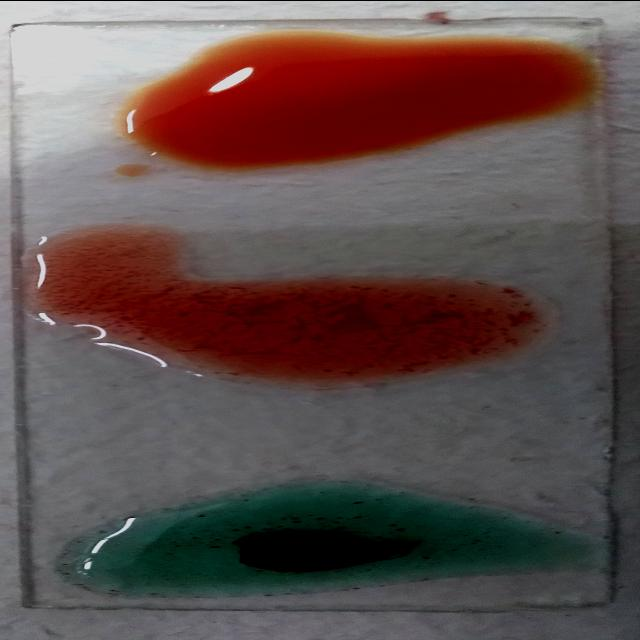A: (72, 490, 574, 598)
D: (27, 246, 535, 384)
